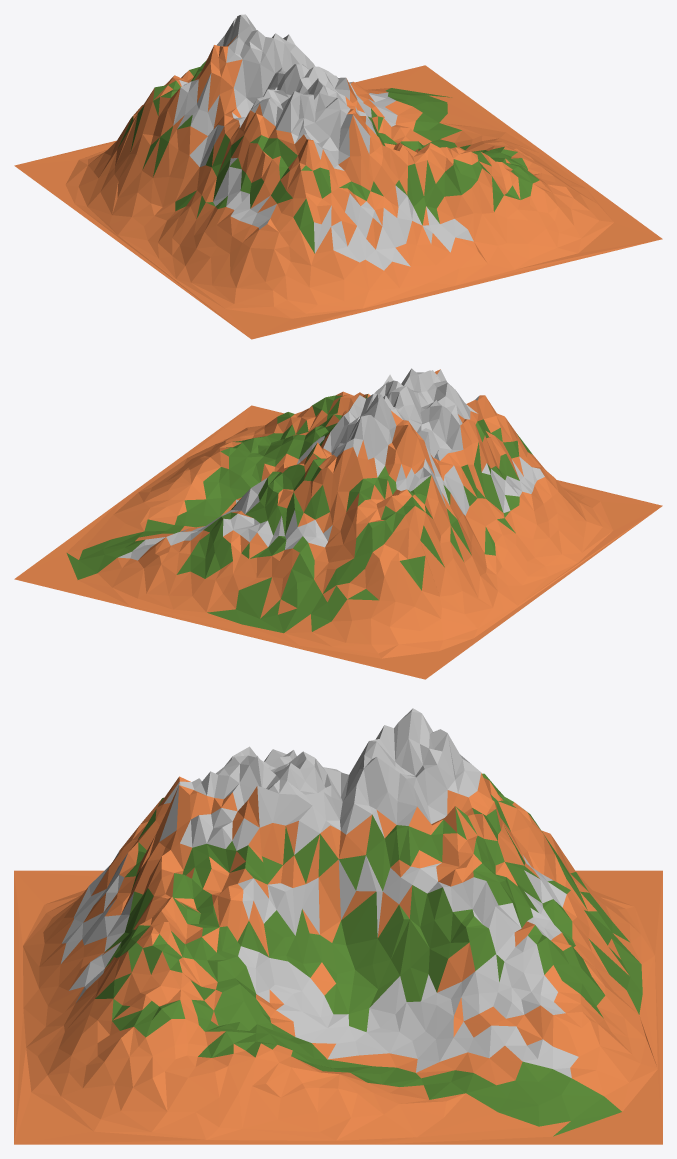
Rendered from mountain02.fbx.
3 views of the same model, one above another, from view 1: azimuth 30°, elevation 25°; view 2: azimuth 150°, elevation 25°; view 3: azimuth 270°, elevation 25° (orthographic). The views are drawn at different scales.
Visible parts, largest first — view 1: mountain02; view 2: mountain02; view 3: mountain02.
Part boxes in pixels (<box>): mountain02: <box>14,14,662,339</box>; mountain02: <box>14,368,662,679</box>; mountain02: <box>14,708,662,1144</box>.
Bounding box in the file's own units: 1229 × 528 × 1229.
